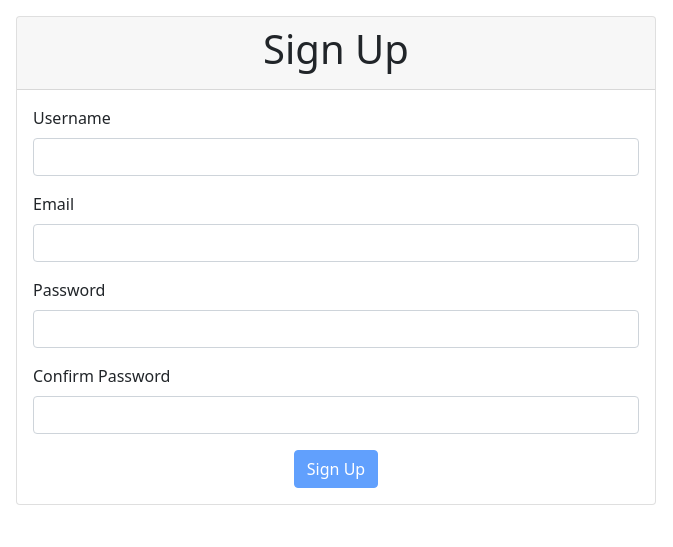
Test: Sign Up Page › Interactions › displays validation message for username
The width and height of the screenshot is (673, 547).
In the field labelled "Username": (336, 157) [33,138,639,176], type "user1"
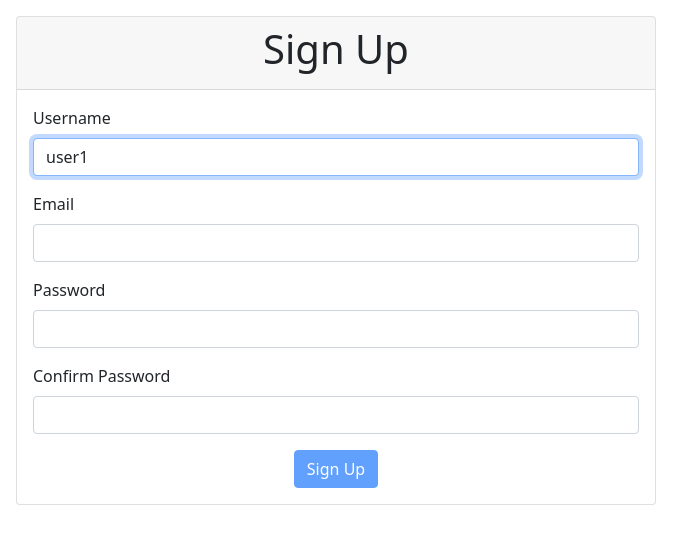
In the field labelled "Email": (336, 243) [33,224,639,262], type "user1@test.com"
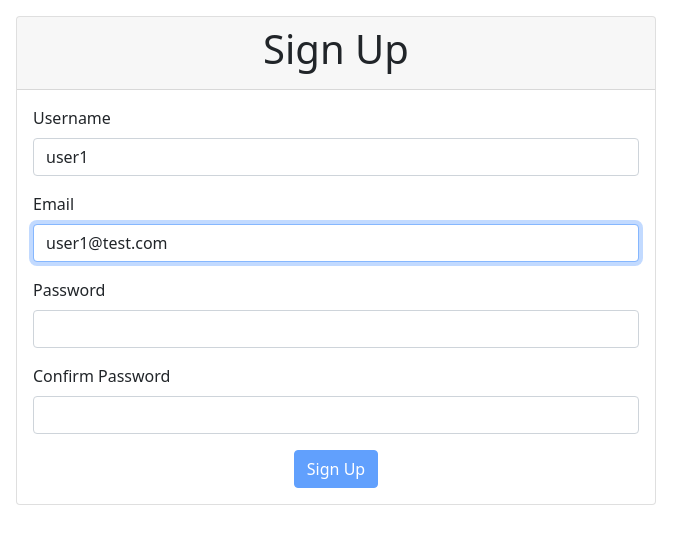
In the password field labelled "Password": (336, 329) [33,310,639,348], type "P"
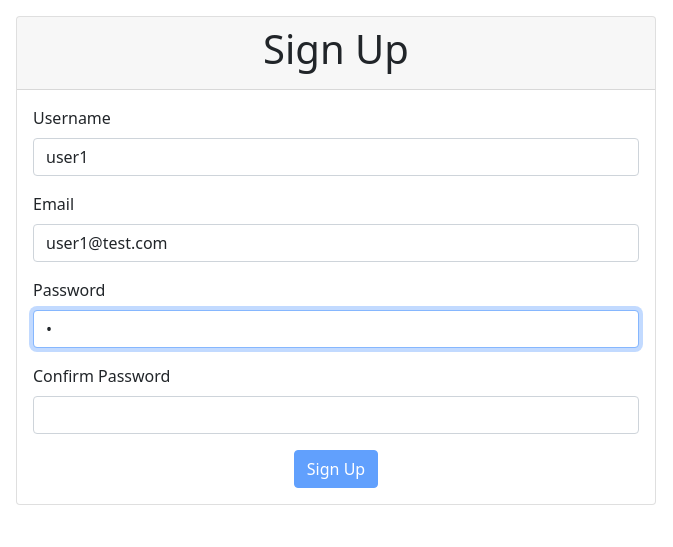
In the password field labelled "Confirm Password": (336, 415) [33,396,639,434], type "P"
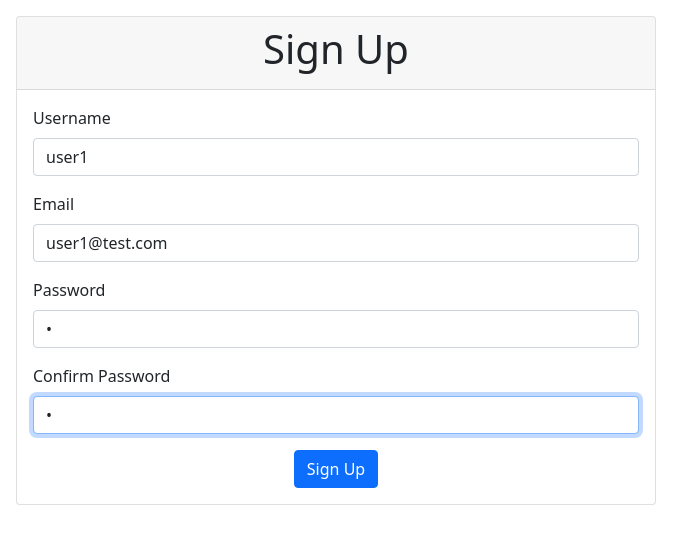
Click the button "Sign Up": (336, 469) [294,450,378,488]
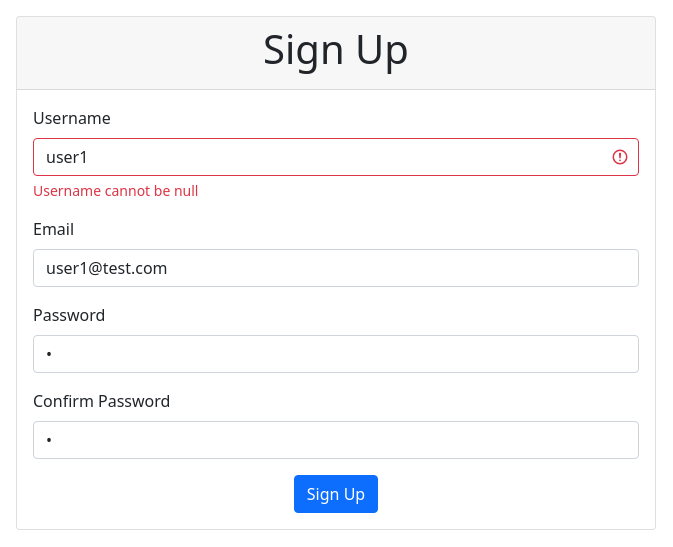
Expected: the text "Username cannot be null" is shown, [33,181,198,200]
